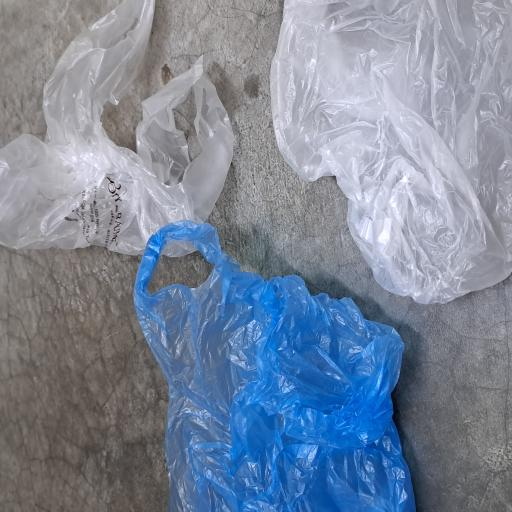plastic bag: (0, 179, 223, 512), (194, 0, 384, 314), (156, 357, 383, 512)
